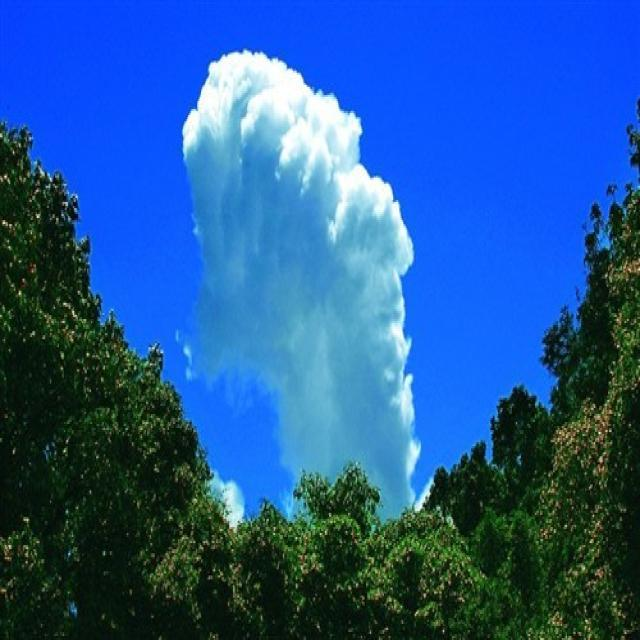Smoke: (176, 49, 422, 528)
